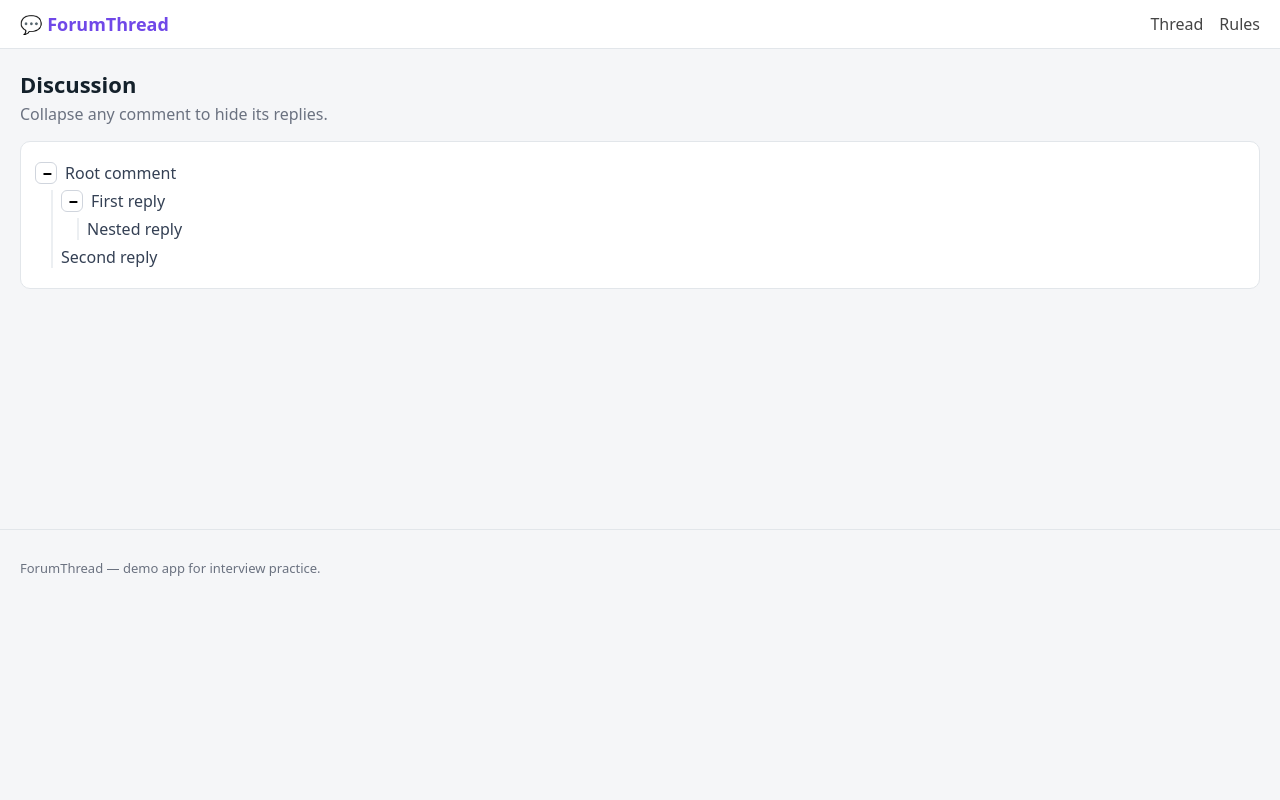
Test case: m09 · ForumThread — app renders › navigates to the Rules route via the navbar
Click the link with test id "nav-rules". click: click(1240, 24)
box: [1219, 13, 1260, 35]
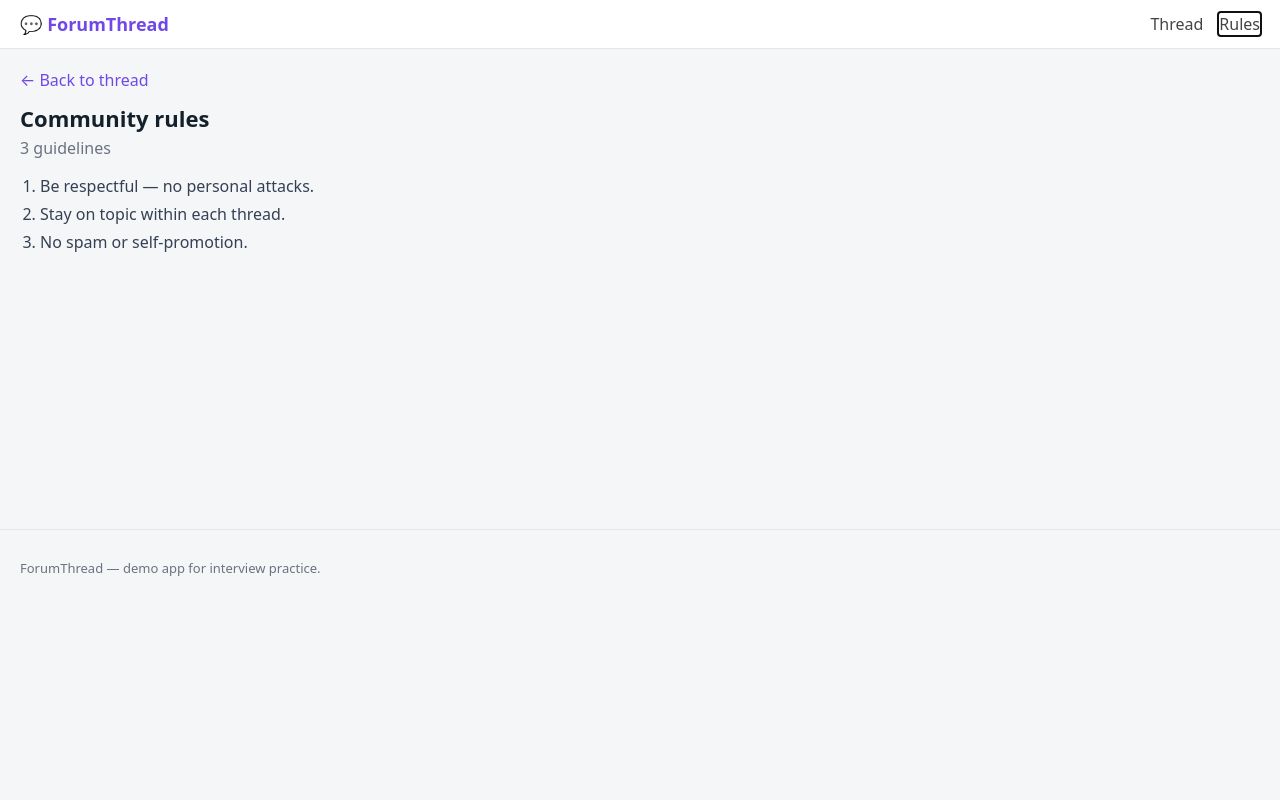
Now the element with test id "rules-page" is shown, box [20, 69, 314, 253]
